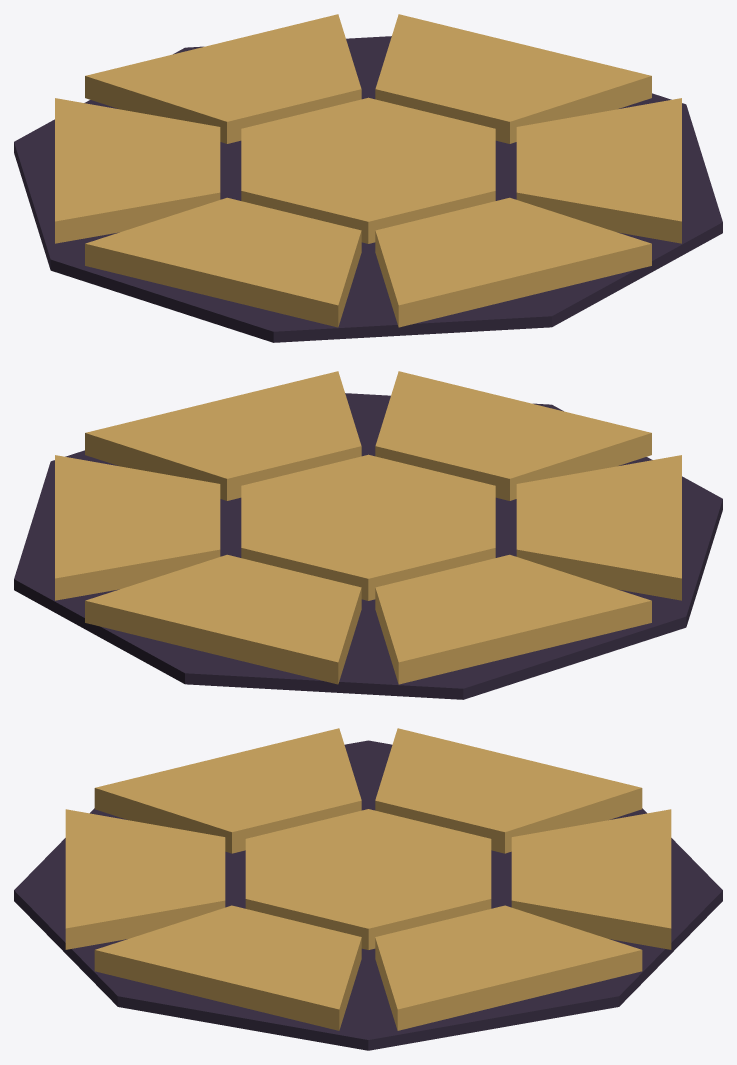
File: cracked-earth-tile.glb
3 views of the same model, one above another, from view 1: azimuth 30°, elevation 25°; view 2: azimuth 150°, elevation 25°; view 3: azimuth 270°, elevation 25° (orthographic). The views are drawn at different scales.
Parts seen in each view (by area): view 1: sand-cracked-earth-tile; view 2: sand-cracked-earth-tile; view 3: sand-cracked-earth-tile.
Part boxes in pixels (bbox=[...]): sand-cracked-earth-tile: bbox=[14, 14, 722, 342]; sand-cracked-earth-tile: bbox=[14, 371, 722, 699]; sand-cracked-earth-tile: bbox=[14, 728, 722, 1050].
Bounding box in the file's own units: 1.2 × 0.06 × 1.2.
